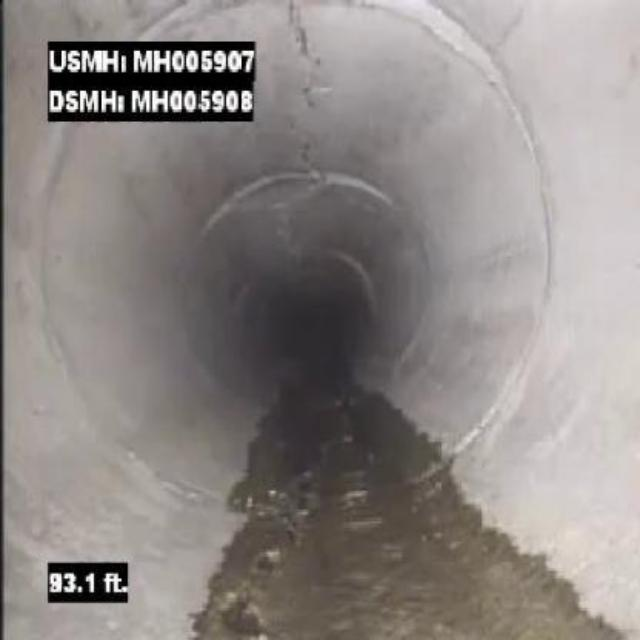Buckling: (212, 523, 305, 638)
Crack: (283, 3, 332, 115)
